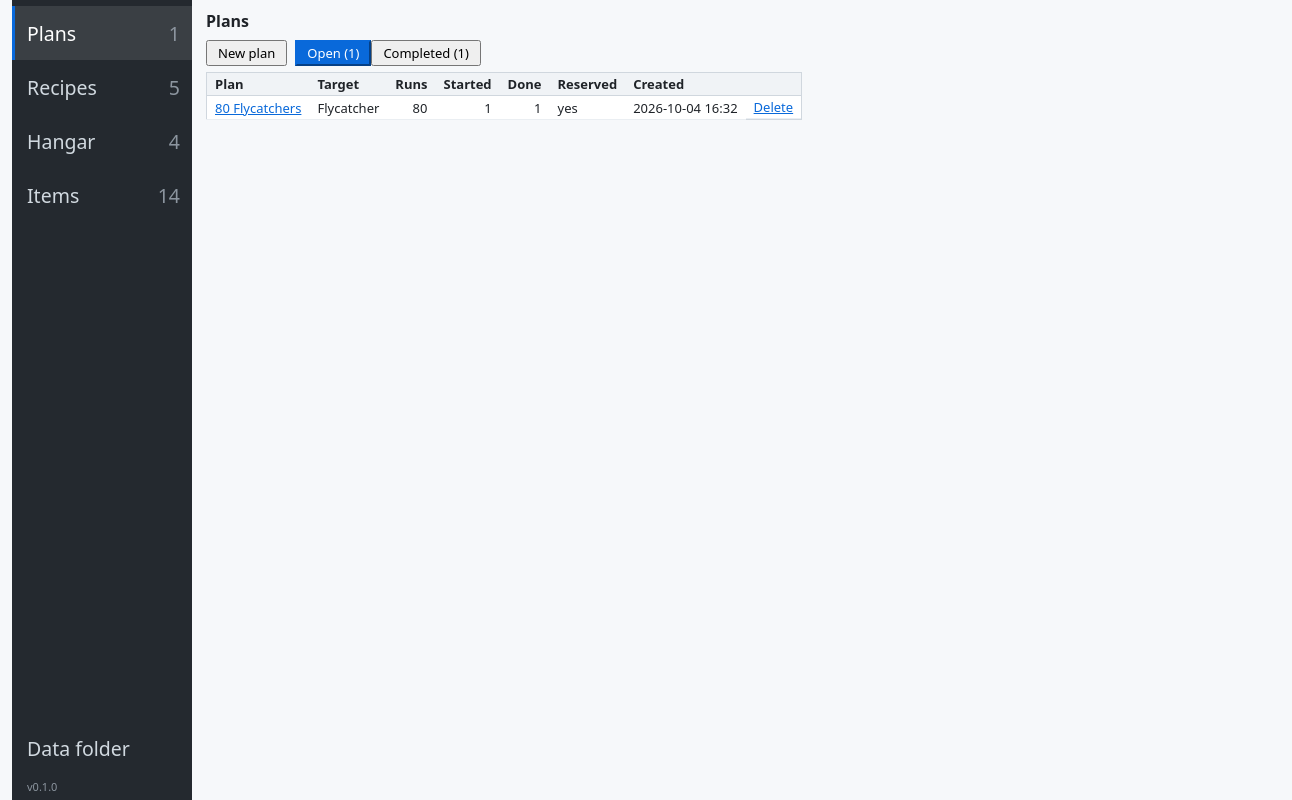
Test case: HangarSection › narrows by search and category
Click the button "Hangar 4" at (102, 141), box [12,114,192,168]
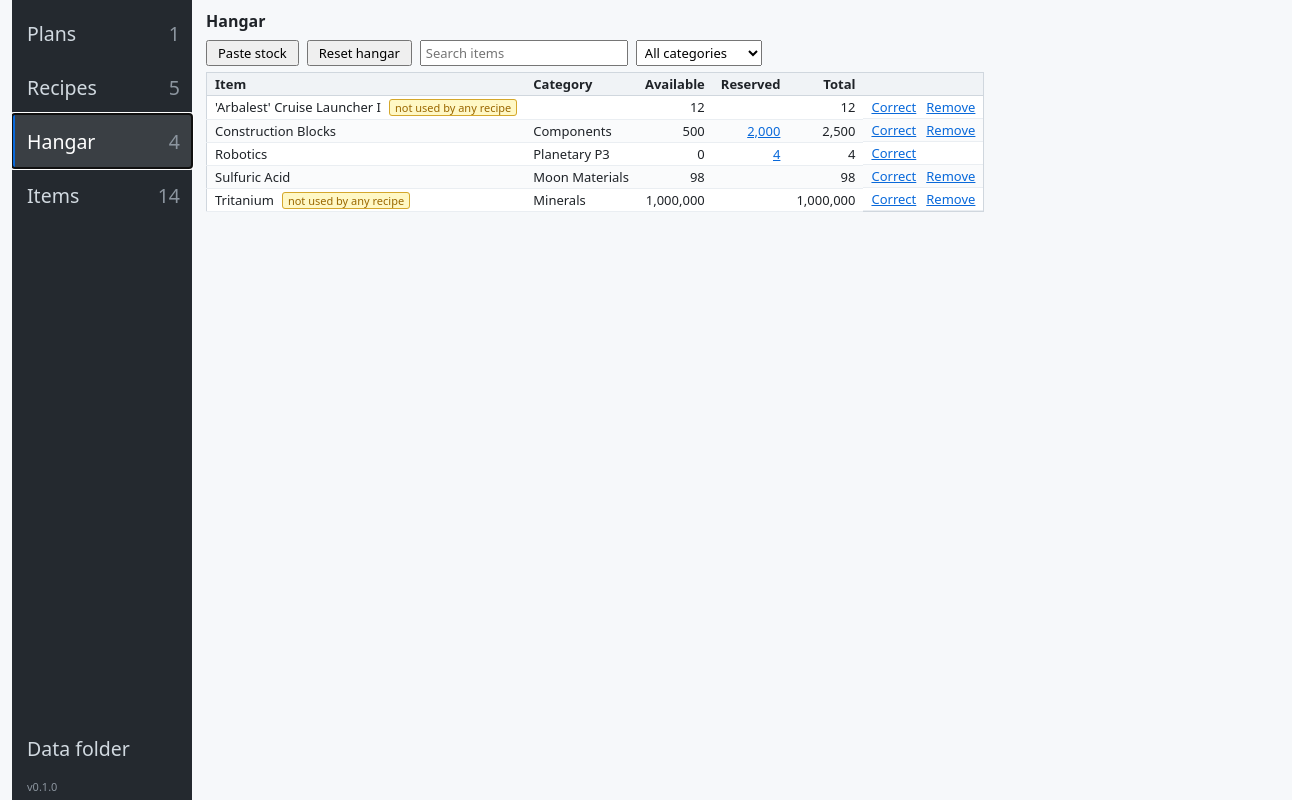
Type "trit" into the search field named "Search stock" at (524, 53), box [420,40,628,66]
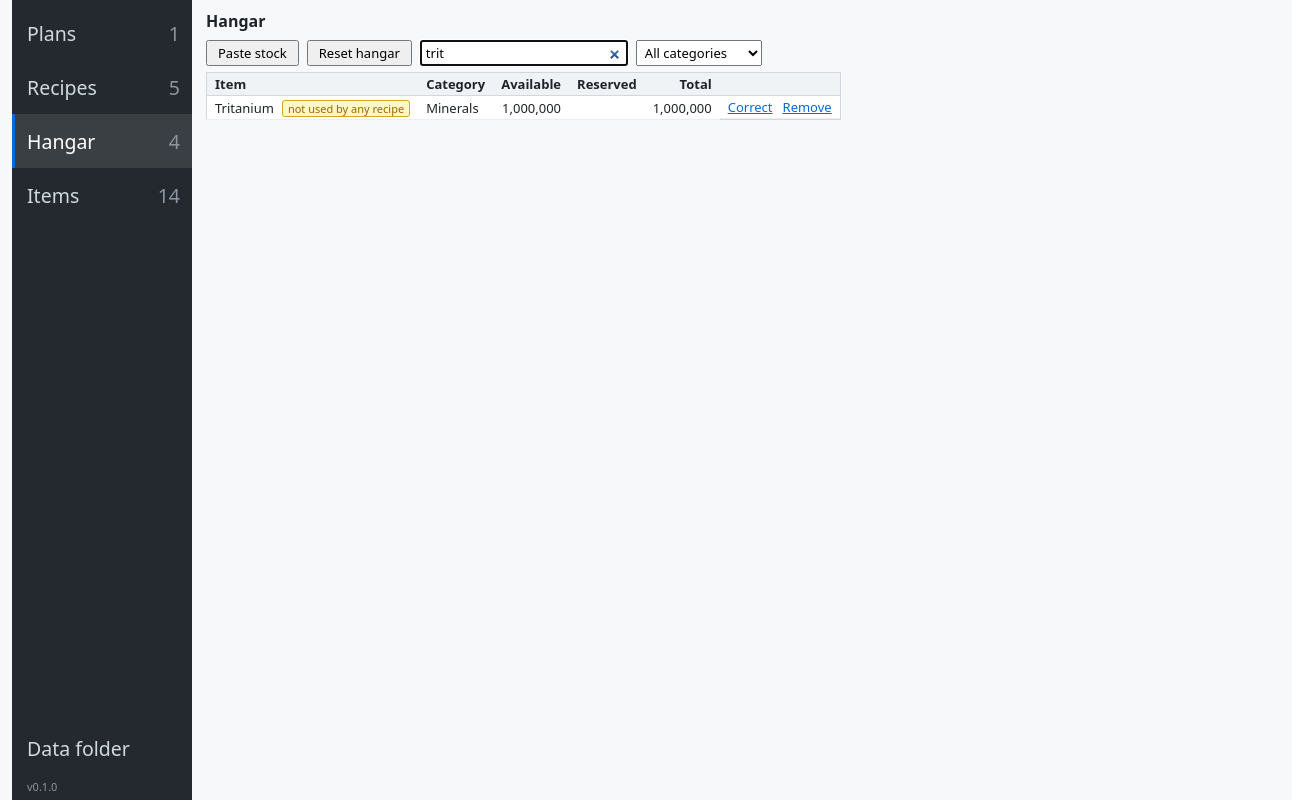
Check: the number of rows is 2, box [206,72,840,96]; [206,96,840,120]
Clear the search field named "Search stock" at (524, 53), box [420,40,628,66]
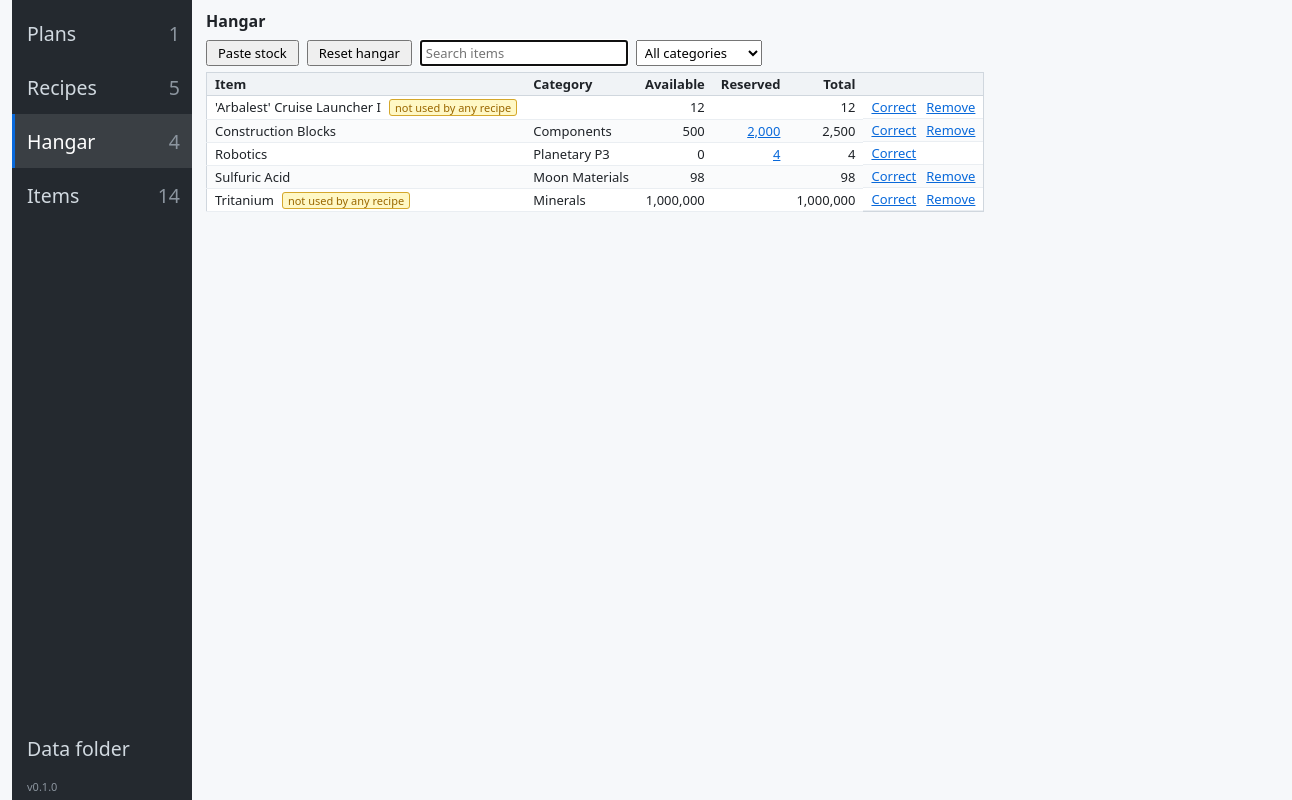
Select "Moon Materials" in the dropdown named "Filter stock by category" at (699, 53), box [636,40,762,66]
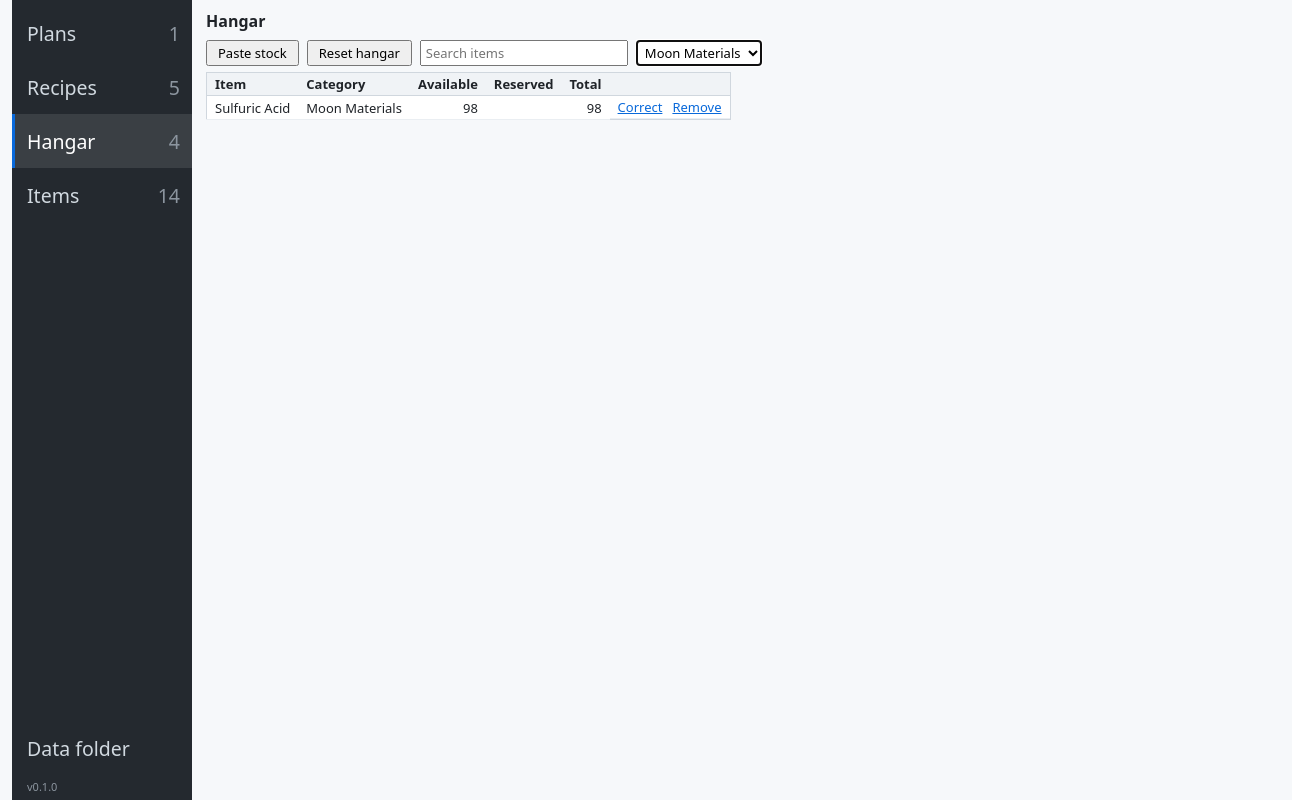
Check: the cell "Tritanium" is gone
